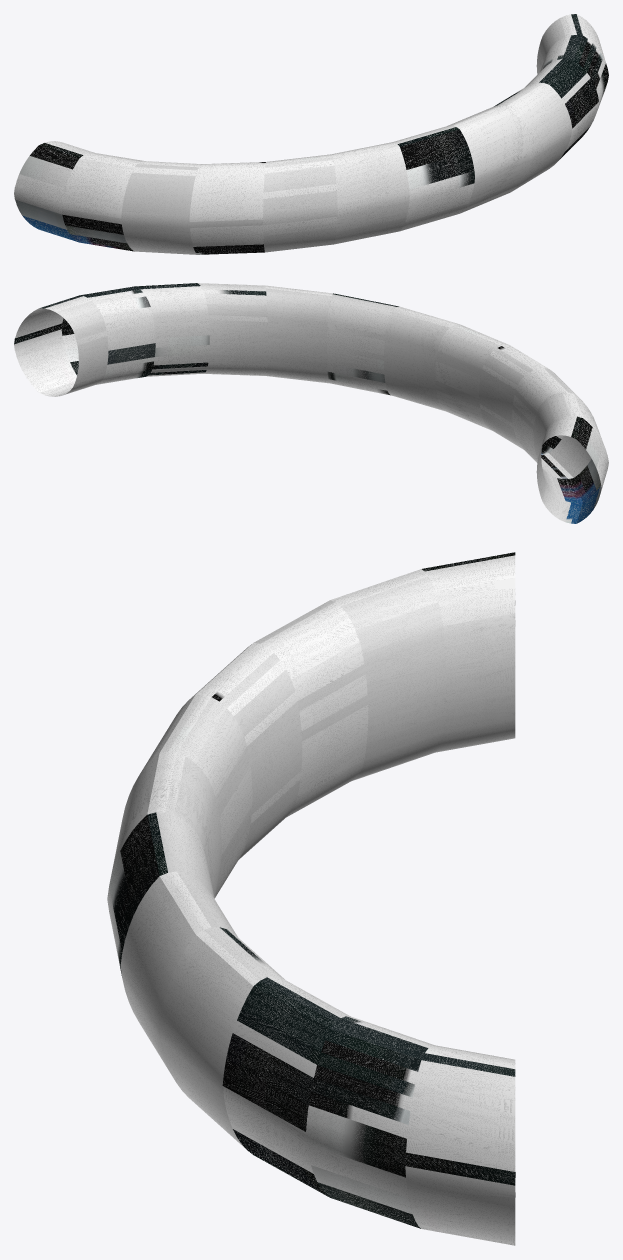
File: original-24.obj
3 views of the same model, one above another, from view 1: azimuth 30°, elevation 25°; view 2: azimuth 150°, elevation 25°; view 3: azimuth 270°, elevation 25° (orthographic). The views are drawn at different scales.
Visible parts, largest first — view 1: Ручка1/Ручка/mesh22/mesh22-geometry#mesh22-geometry; view 2: Ручка1/Ручка/mesh22/mesh22-geometry#mesh22-geometry; view 3: Ручка1/Ручка/mesh22/mesh22-geometry#mesh22-geometry.
Part boxes in pixels (x1=…): Ручка1/Ручка/mesh22/mesh22-geometry#mesh22-geometry: x1=14, y1=14, x2=608, y2=254; Ручка1/Ручка/mesh22/mesh22-geometry#mesh22-geometry: x1=14, y1=283, x2=608, y2=523; Ручка1/Ручка/mesh22/mesh22-geometry#mesh22-geometry: x1=107, y1=552, x2=515, y2=1245.
Size of the model in its own units: 0.1134 by 0.016 by 0.0341.
